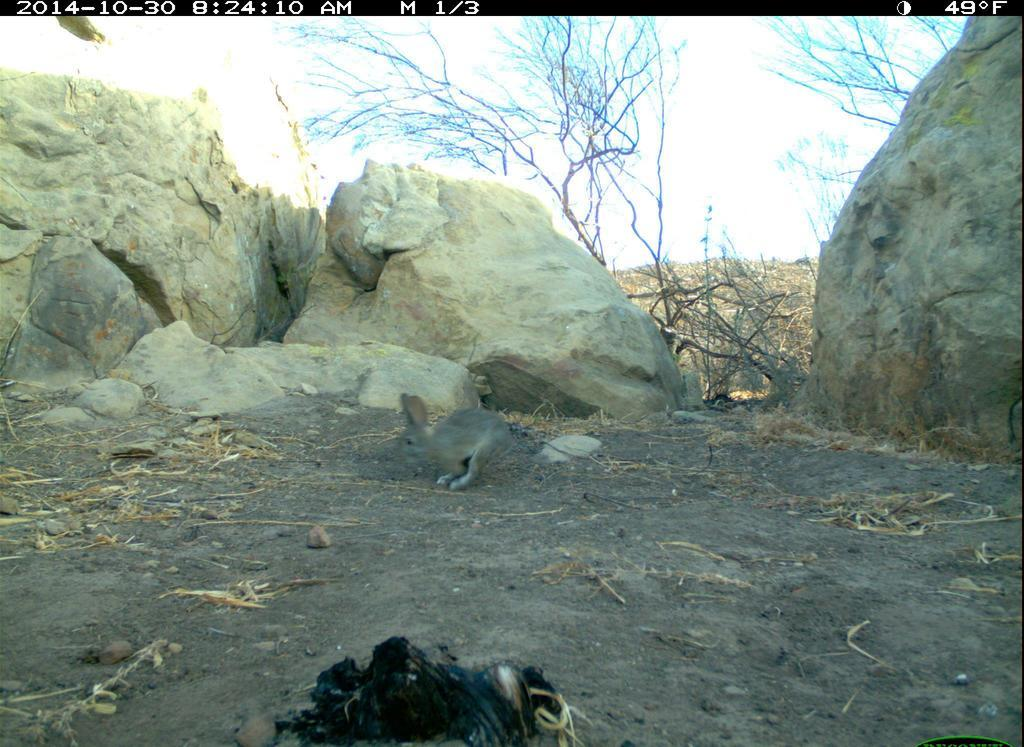rabbit: (385, 385, 530, 513)
